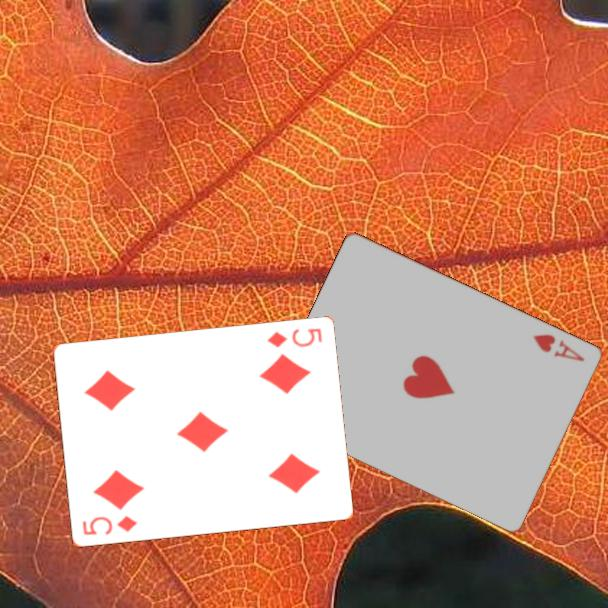d05: (263, 325, 324, 351), (79, 513, 140, 538)
h01: (530, 330, 588, 364)
